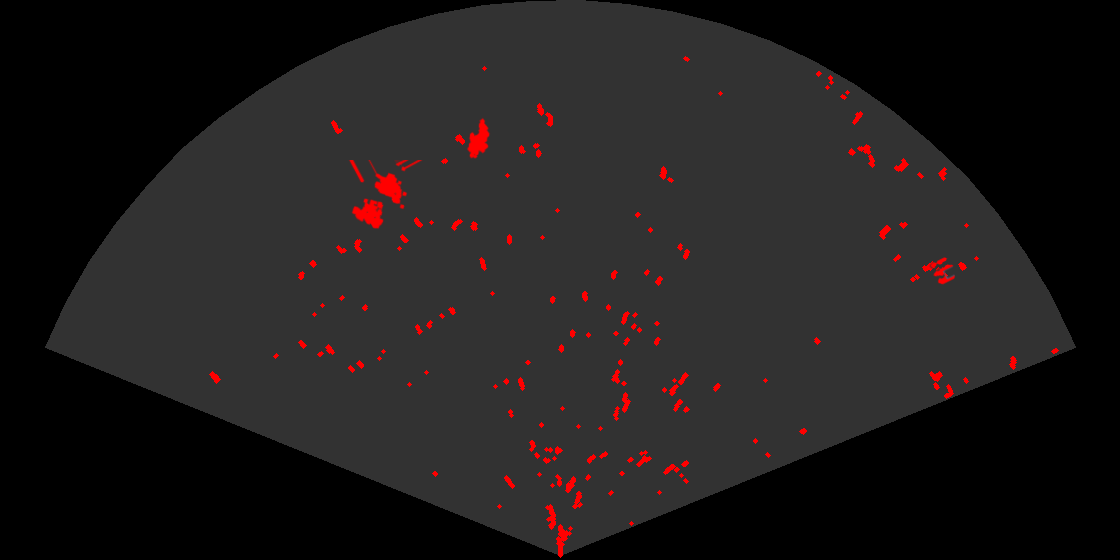AUV: (465, 116, 492, 160)
ball: (929, 256, 957, 286)
cage: (347, 160, 424, 230)
